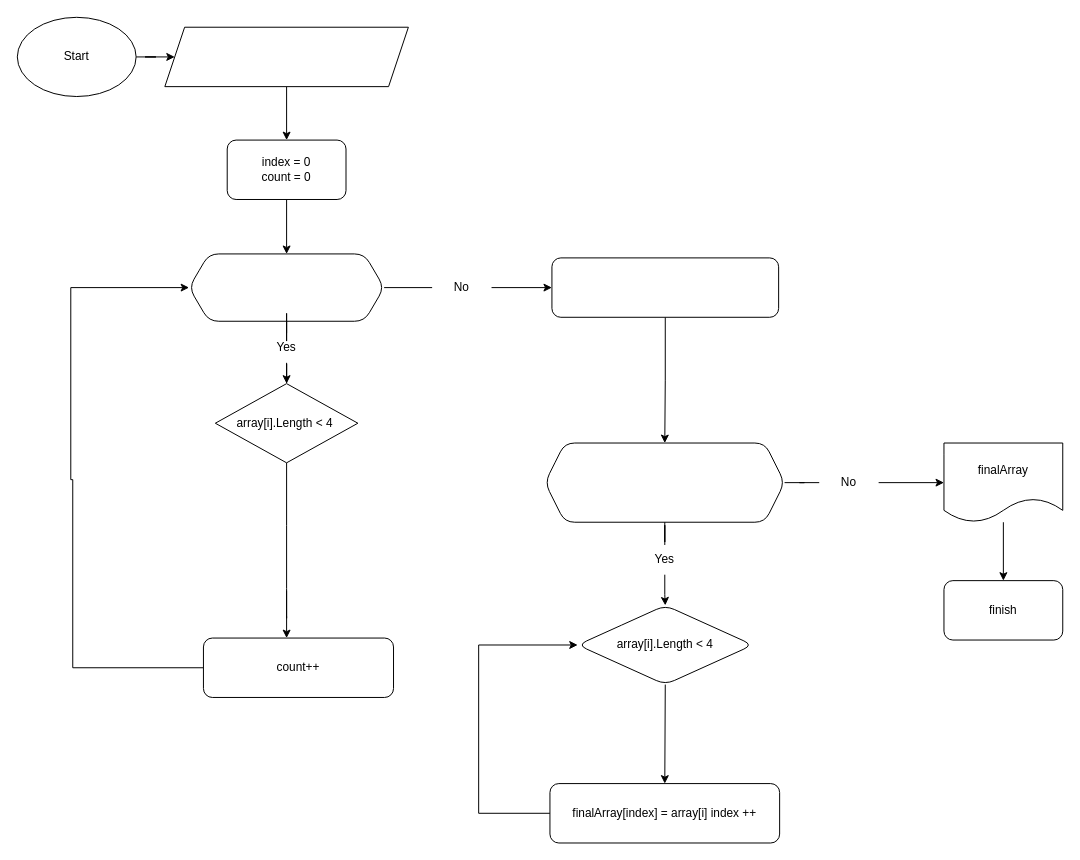
Image size: 1080x860. Some labels were removed from this diagram. The shapes that lost their labels are listed below. From the top down, each one's centre as x and y in pixels, then its label:
the point at 286,56: CreateArray[string a, string b,... ]
the point at 286,287: i = 0, i < array.Length; i ++
the point at 665,287: finalArray=new string [count]
the point at 664,482: i = 0, i < array.Length; i++
